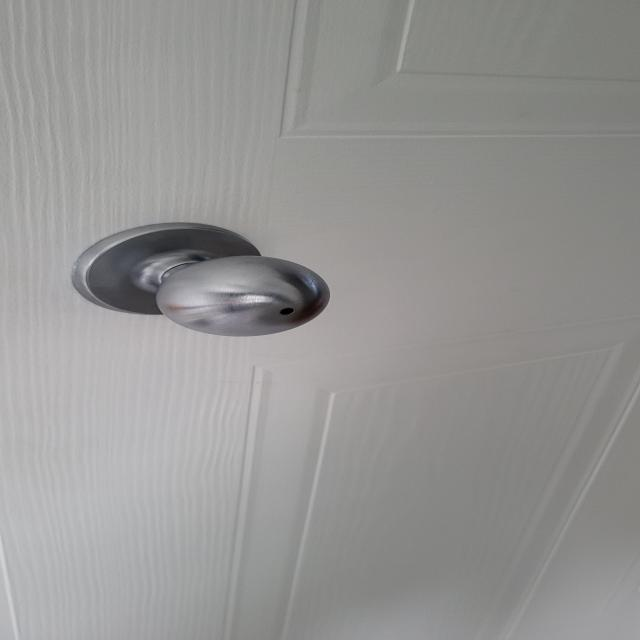door-knob: (73, 222, 330, 336)
